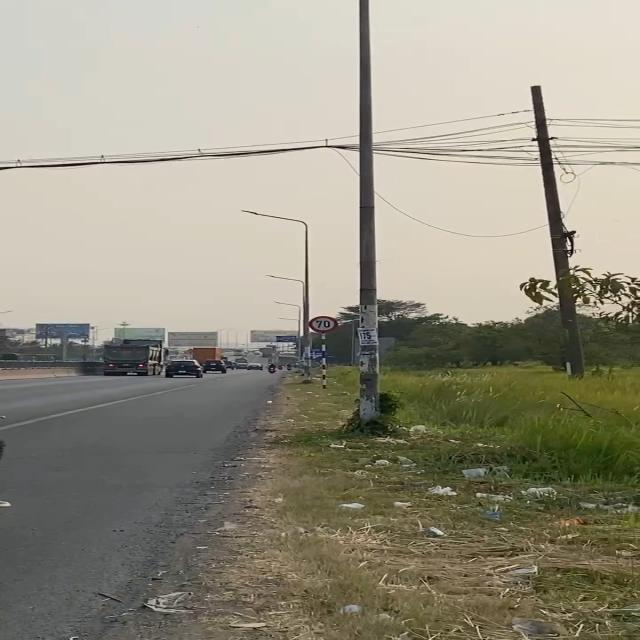127-toc-do-toi-da-70: (308, 315, 340, 333)
